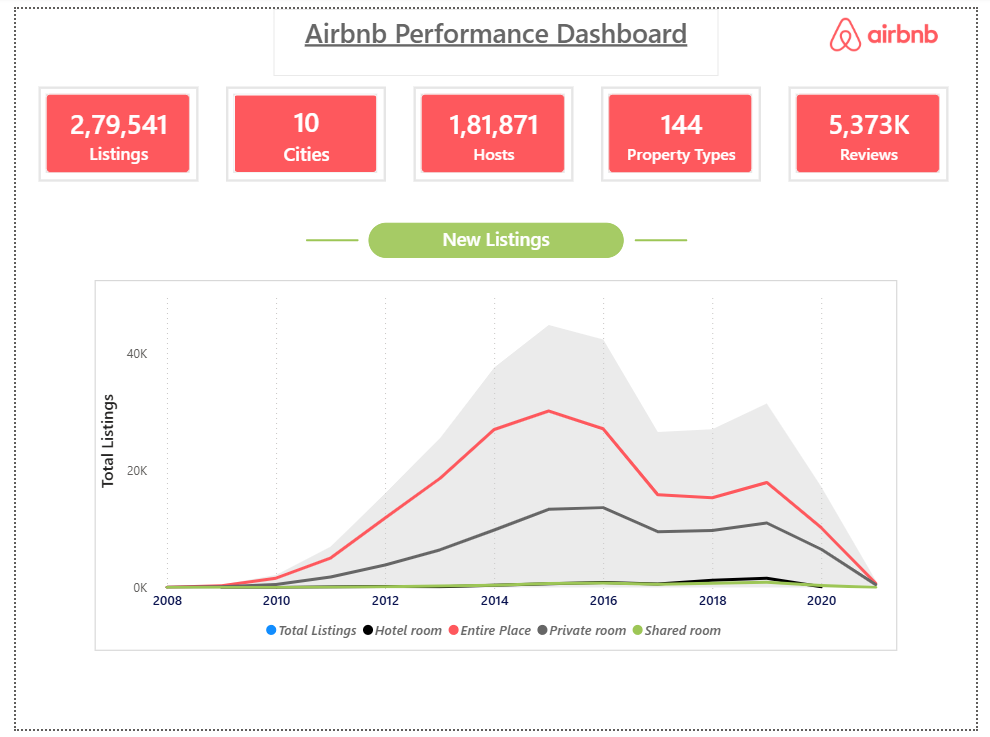

The page's visual inventory and layout, read from the dashboard file:
{"tool":"powerbi","page":{"name":"Overview","canvas":[960,720],"ordinal":0},"visuals":[{"type":"textbox","box":[257.5,0,445,67.5],"z":0},{"type":"image","box":[776.2,8.8,183.8,33.8],"z":1000},{"type":"cardVisual","fields":{"Data":["CountNonNull(Listings.Listing_ID)"]},"box":[22.3,77.8,160,95],"z":2000},{"type":"cardVisual","fields":{"Data":["Count(Listings.city)"]},"box":[209.8,77.8,160,95],"z":3000},{"type":"cardVisual","fields":{"Data":["Count(Listings.Host_id)"]},"box":[397.3,77.8,160,95],"z":4000},{"type":"cardVisual","fields":{"Data":["Count(Listings.property_type)"]},"box":[584.8,77.8,160,95],"z":5000},{"type":"cardVisual","fields":{"Data":["Count(Reviews.review_id)"]},"box":[772.3,77.8,160,95],"z":6000},{"type":"lineChart","fields":{"Category":["Listings.Host_since.Variation.Date Hierarchy.Year"],"Y":["Count(Listings.Listing_ID)","Listings.Hotel room","Listings.Entire Place","Listings.Private room","Listings.Shared room"]},"box":[78.8,271.2,802.5,370],"z":7000},{"type":"textbox","box":[352.5,213.8,255,35],"z":8000},{"type":"shape","box":[290,181.2,52.5,100],"z":9000},{"type":"shape","box":[618.8,181.2,52.5,100],"z":10000}]}

Visuals, with their boxes in screenshot pixels (x1, y1, x2, y2), scaled from the page's 960x720 canvas onto the 990x737 screenshot:
textbox: bbox=[266, 0, 724, 69]
image: bbox=[800, 9, 989, 44]
cardVisual - CountNonNull(Listings.Listing_ID): bbox=[23, 80, 188, 177]
cardVisual - Count(Listings.city): bbox=[216, 80, 381, 177]
cardVisual - Count(Listings.Host_id): bbox=[410, 80, 575, 177]
cardVisual - Count(Listings.property_type): bbox=[603, 80, 768, 177]
cardVisual - Count(Reviews.review_id): bbox=[796, 80, 961, 177]
lineChart - Listings.Host_since.Variation.Date Hierarchy.Year x Count(Listings.Listing_ID): bbox=[81, 278, 909, 656]
textbox: bbox=[364, 219, 626, 255]
shape: bbox=[299, 185, 353, 288]
shape: bbox=[638, 185, 692, 288]
